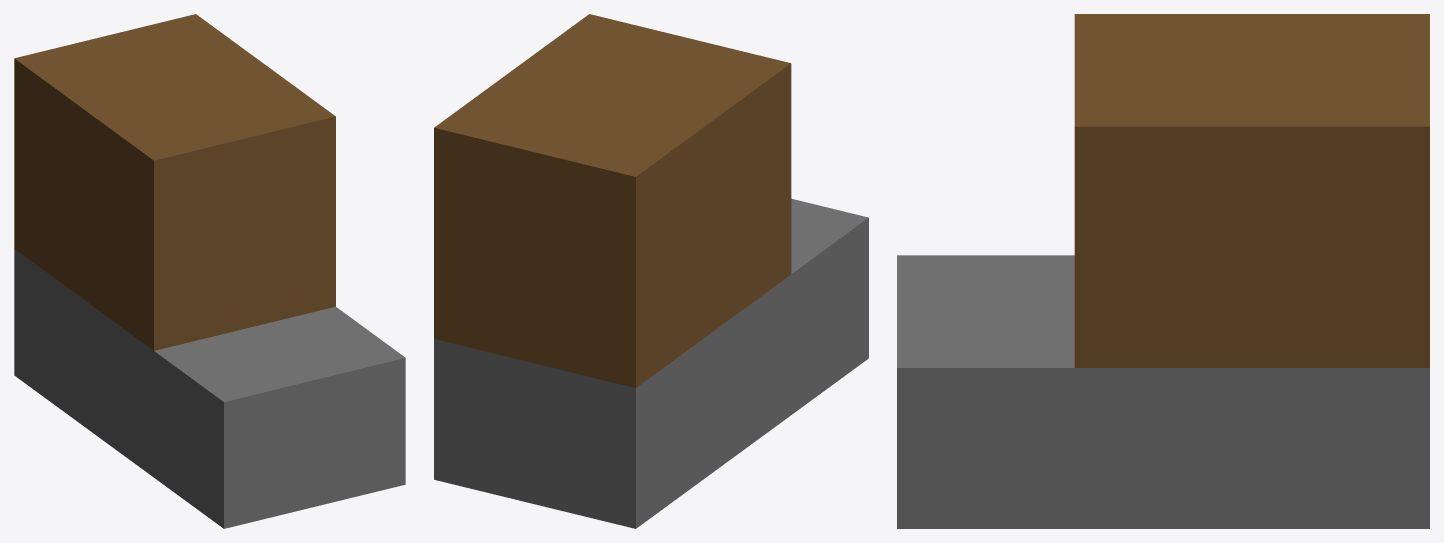
File: Leg.obj
3 views of the same model, side by side, from view 1: azimuth 30°, elevation 25°; view 2: azimuth 150°, elevation 25°; view 3: azimuth 270°, elevation 25° (orthographic). The views are drawn at different scales.
Size of the model in its own units: 0.3 by 0.5 by 0.6.
